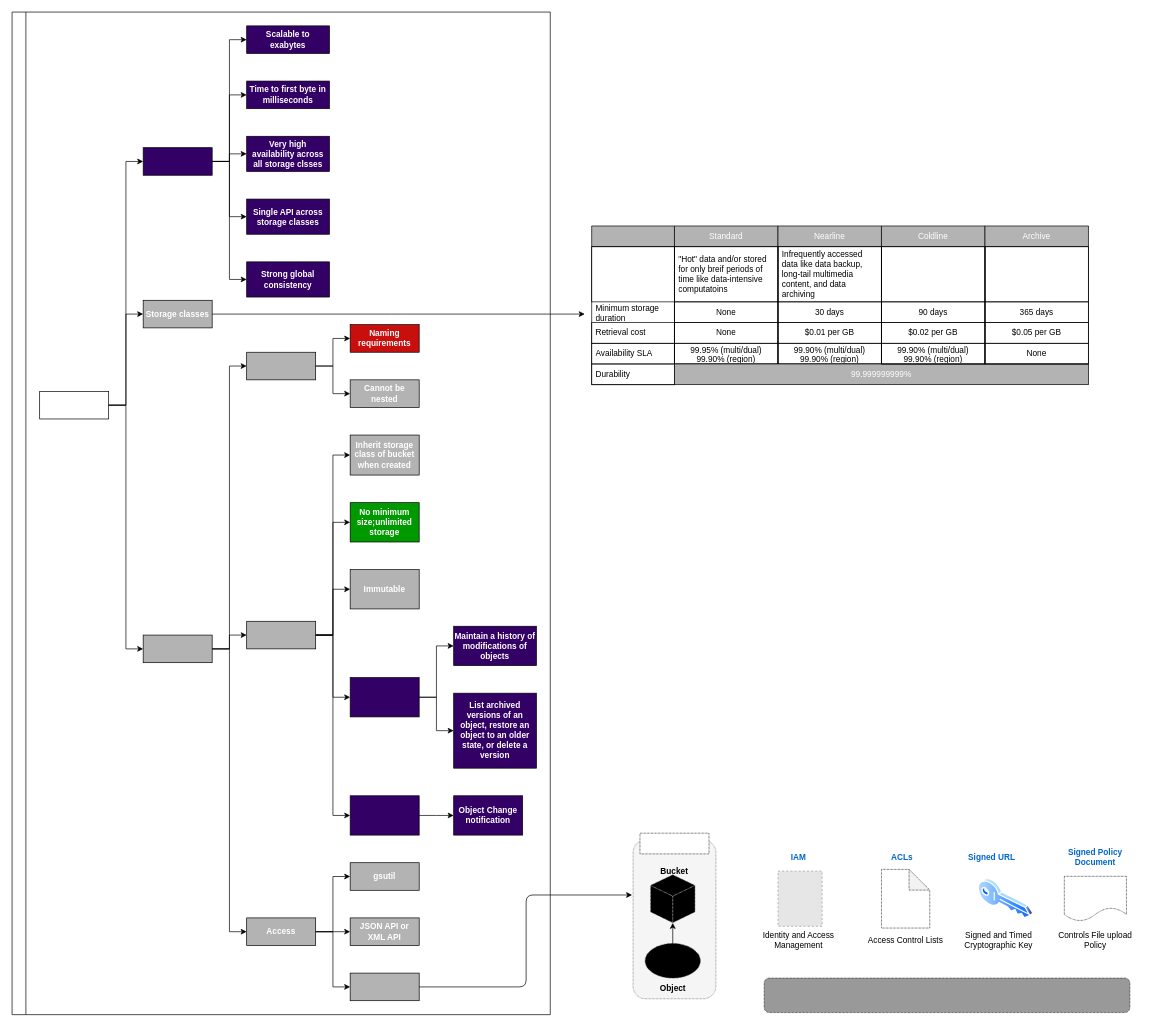
Image size: 1149x1027. Some labels were removed from this diagram. Grey dashed boxes stand in for pictures. The shapes that lost their labels are listed below. From the top down, each one's centre as x and y in pixels, then its label:
[177,161]: Key features
[632,274]: Use case
[933,274]: Infrequently accessed data tht you read or modify at most once a quarter
[1036,274]: Data archiving, online backup, and disaster recovery
[281,366]: Buckets
[74,405]: Cloud Storage
[177,648]: items
[281,635]: Objects
[384,697]: Object Versioning
[384,815]: Object Lifecycle Management
[674,843]: Project
[384,986]: Access control
[946,995]: Can be uesd together
